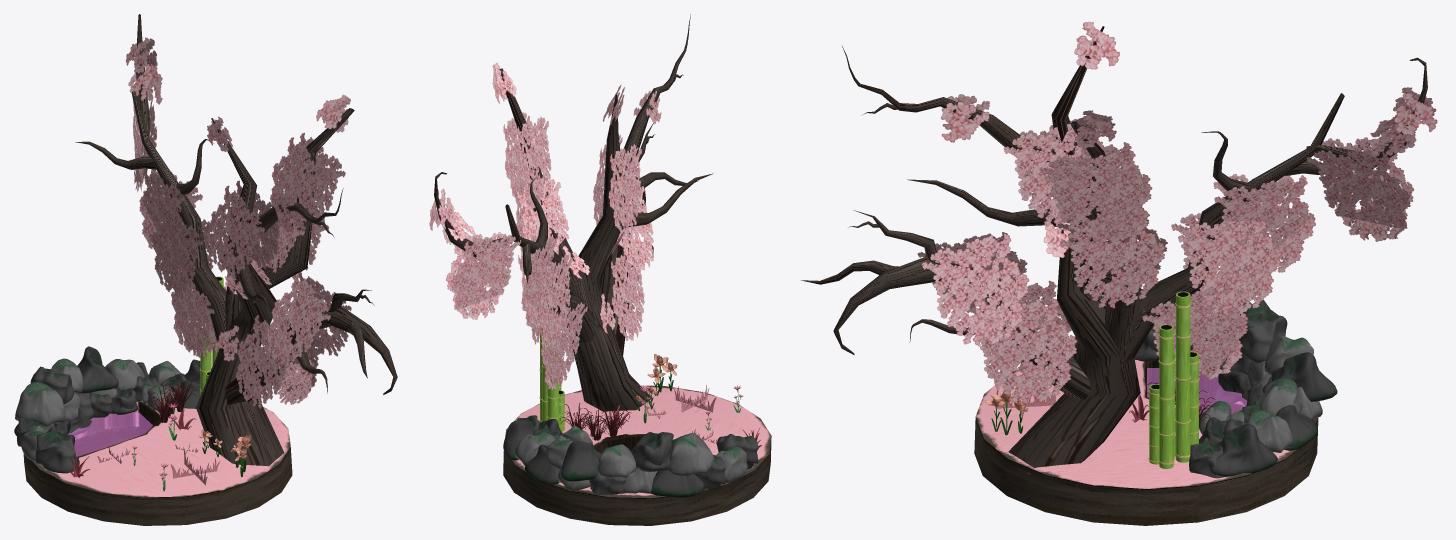
The picture shows the model from 3 angles, left to right: view 1: azimuth 30°, elevation 25°; view 2: azimuth 150°, elevation 25°; view 3: azimuth 270°, elevation 25°; orthographic projection. The views are drawn at different scales.
Visible parts, largest first — view 1: pasted__pSphere2, pasted__pSphere2_tree_final:pasted__pasted__pasted__lambert2, bamboo:pCylinder2, pasted__pSphere2_tree_final:pasted__pasted__pasted__lambert3; view 2: pasted__pSphere2, pasted__pSphere2_tree_final:pasted__pasted__pasted__lambert3, bamboo:pCylinder2, pasted__pSphere2_tree_final:pasted__pasted__pasted__lambert2, grass12:group16_pasted__group12_pasted__group3_pasted__paste, grass5:group16_pasted__group12_pasted__group3_pasted__pasted; view 3: pasted__pSphere2, bamboo:pCylinder2, pasted__pSphere2_tree_final:pasted__pasted__pasted__lambert3, pasted__pSphere2_tree_final:pasted__pasted__pasted__lambert2.
Part boxes in pixels (x1=…): pasted__pSphere2: x1=14, y1=14, x2=397, y2=525; pasted__pSphere2_tree_final:pasted__pasted__pasted__lambert2: x1=230, y1=180, x2=279, y2=269; bamboo:pCylinder2: x1=199, y1=276, x2=224, y2=395; pasted__pSphere2_tree_final:pasted__pasted__pasted__lambert3: x1=134, y1=99, x2=156, y2=191; pasted__pSphere2: x1=429, y1=14, x2=771, y2=525; pasted__pSphere2_tree_final:pasted__pasted__pasted__lambert3: x1=446, y1=232, x2=512, y2=319; bamboo:pCylinder2: x1=539, y1=309, x2=565, y2=431; pasted__pSphere2_tree_final:pasted__pasted__pasted__lambert2: x1=593, y1=135, x2=622, y2=224; grass12:group16_pasted__group12_pasted__group3_pasted__paste: x1=596, y1=401, x2=630, y2=436; grass5:group16_pasted__group12_pasted__group3_pasted__pasted: x1=580, y1=407, x2=613, y2=440; pasted__pSphere2: x1=801, y1=22, x2=1437, y2=525; bamboo:pCylinder2: x1=1148, y1=291, x2=1199, y2=468; pasted__pSphere2_tree_final:pasted__pasted__pasted__lambert3: x1=1306, y1=150, x2=1410, y2=240; pasted__pSphere2_tree_final:pasted__pasted__pasted__lambert2: x1=1003, y1=123, x2=1109, y2=226.
Size of the model in its own units: 28.93 by 34 by 42.86.
15 materials, 14 textured.
